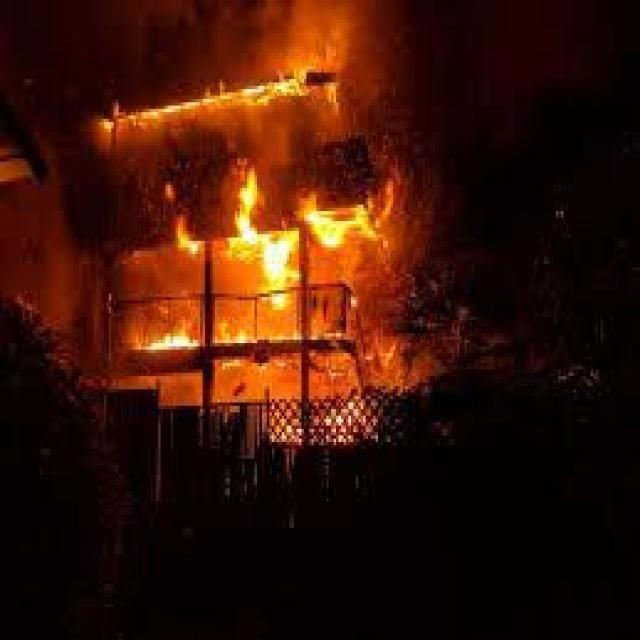fire: (201, 153, 398, 336)
smoke: (368, 27, 580, 293)
